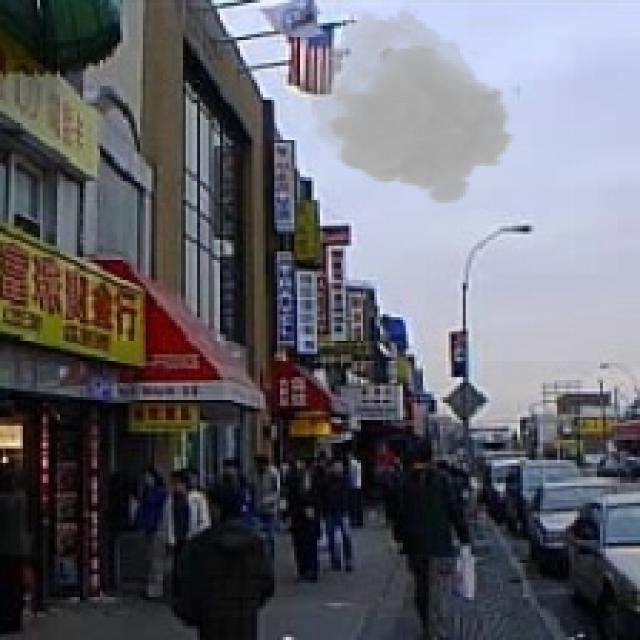smoke: (312, 3, 517, 206)
